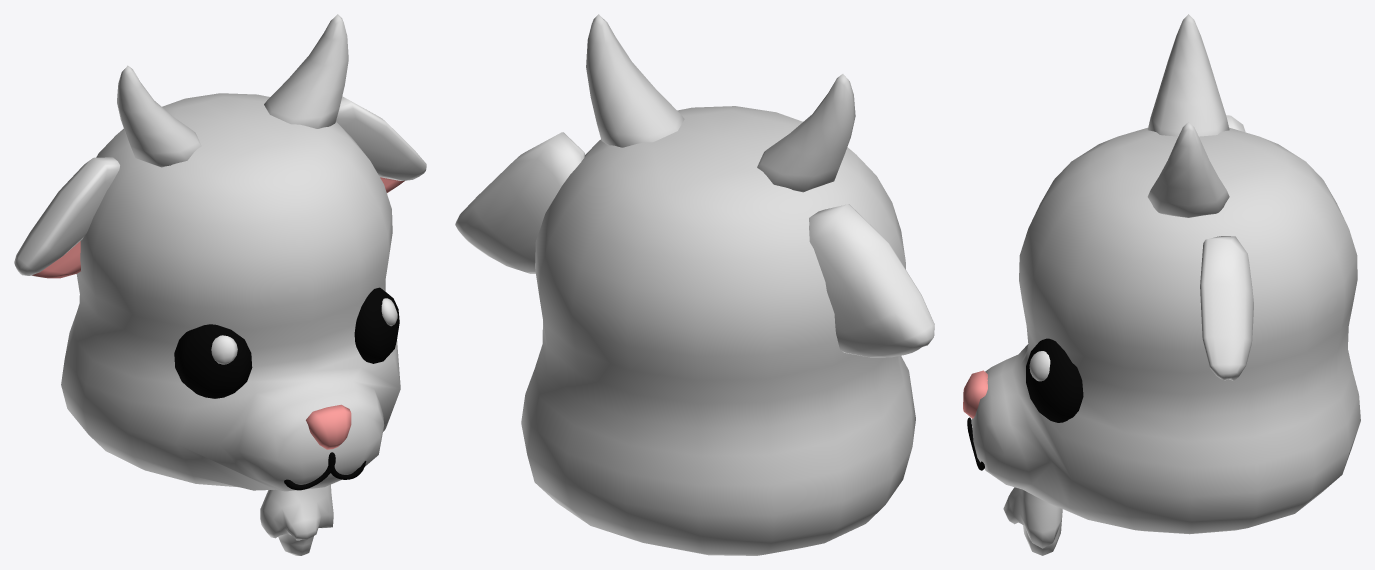
The model's file is goathead.fbx.
3 renders of one model, left to right at view 1: azimuth 30°, elevation 25°; view 2: azimuth 150°, elevation 25°; view 3: azimuth 270°, elevation 25°, orthographic. The views are drawn at different scales.
Visible parts, largest first — view 1: goat_head; view 2: goat_head; view 3: goat_head.
Boxes of the visible parts, box(x1,y1,x2,y2) form: goat_head: box(14, 14, 426, 555); goat_head: box(455, 14, 934, 555); goat_head: box(963, 14, 1360, 555).
Size of the model in its own units: 70.9 by 77.28 by 57.14.
